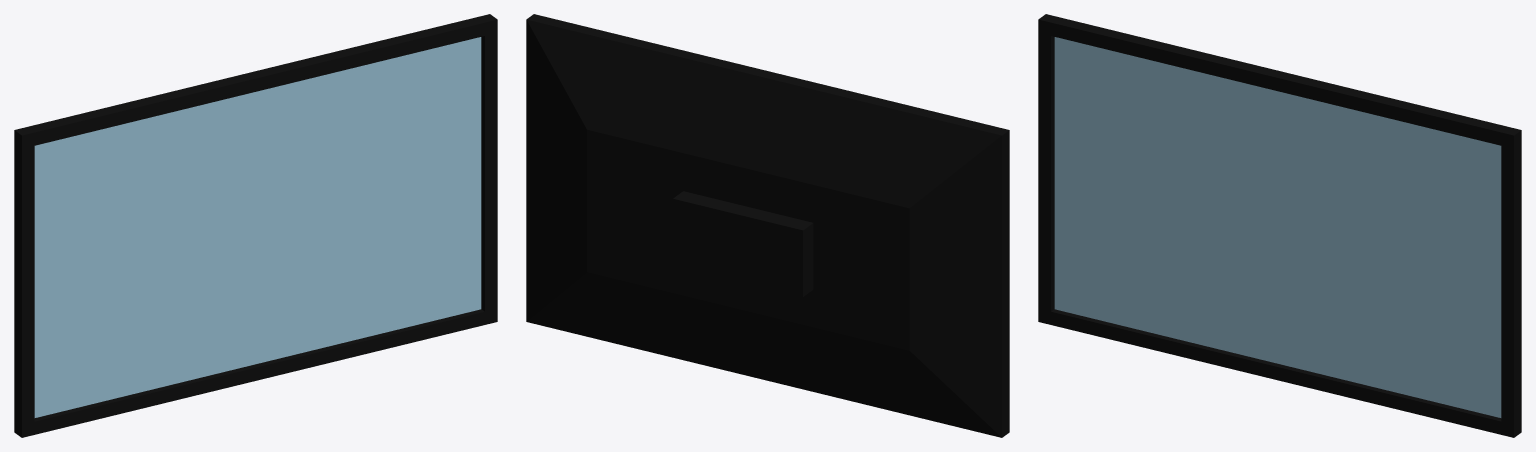
File: EN_Monitor.001_V01.fbx
3 renders of one model, left to right at view 1: azimuth 30°, elevation 25°; view 2: azimuth 150°, elevation 25°; view 3: azimuth 330°, elevation 25°, orthographic.
Parts seen in each view (by area): view 1: GEO_Monitor.001; view 2: GEO_Monitor.001; view 3: GEO_Monitor.001.
Boxes of the visible parts, box(x1,y1,x2,y2) form: GEO_Monitor.001: box(14, 14, 497, 437); GEO_Monitor.001: box(526, 14, 1009, 437); GEO_Monitor.001: box(1038, 14, 1521, 437).
Size of the model in its own units: 68.44 by 41.58 by 8.4.
1 material, 1 textured.
